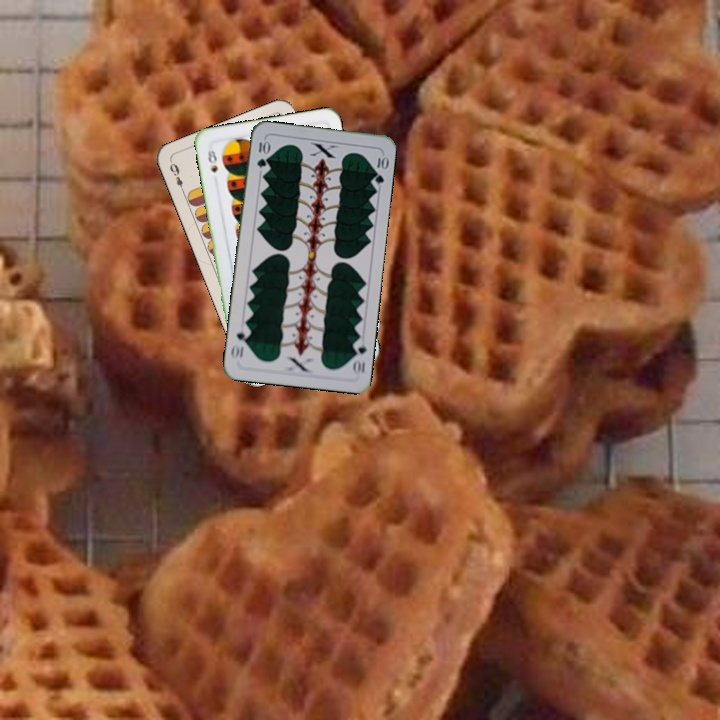E9: (166, 159, 187, 197)
G10: (348, 336, 369, 377), (253, 136, 271, 171)
S8: (204, 146, 220, 175)
